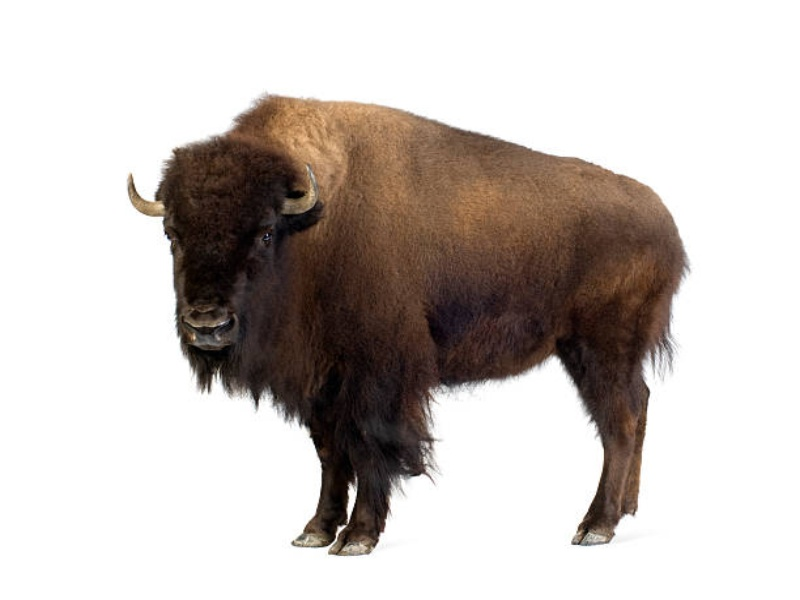buffalo: (119, 89, 700, 572)
